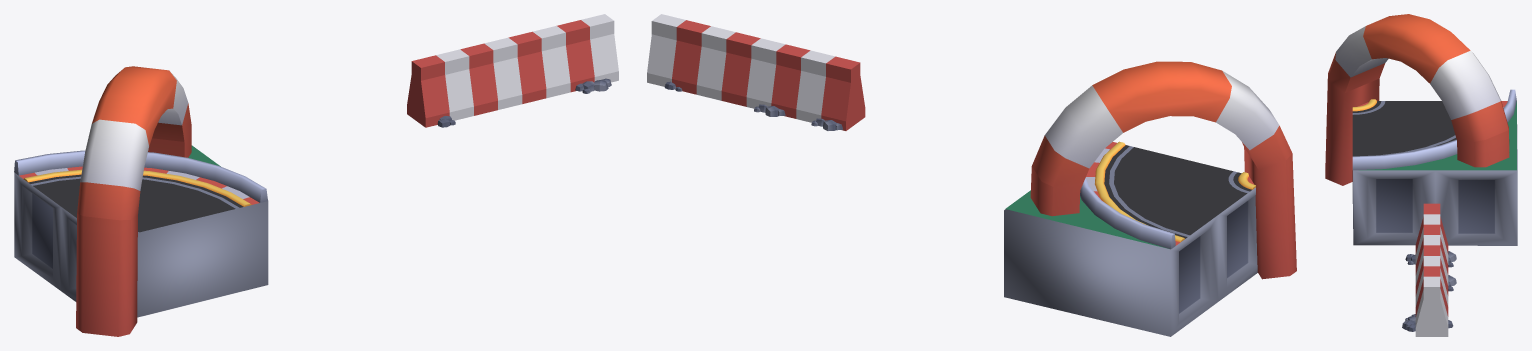
File: track-checkpoint-corner.glb
3 renders of one model, left to right at view 1: azimuth 30°, elevation 25°; view 2: azimuth 150°, elevation 25°; view 3: azimuth 270°, elevation 25°, orthographic. The views are drawn at different scales.
Visible parts, largest first — view 1: track-corner, Plane; view 2: track-corner, Plane; view 3: track-corner, Plane.
Boxes of the visible parts, x1=… form: track-corner: x1=14, y1=66, x2=268, y2=336; Plane: x1=407, y1=14, x2=618, y2=127; track-corner: x1=1004, y1=61, x2=1296, y2=336; Plane: x1=647, y1=14, x2=865, y2=130; track-corner: x1=1325, y1=14, x2=1517, y2=245; Plane: x1=1402, y1=203, x2=1456, y2=336.
Size of the model in its own units: 35.66 by 12.08 by 11.72.
Materials: 3 (3 with a texture image).
